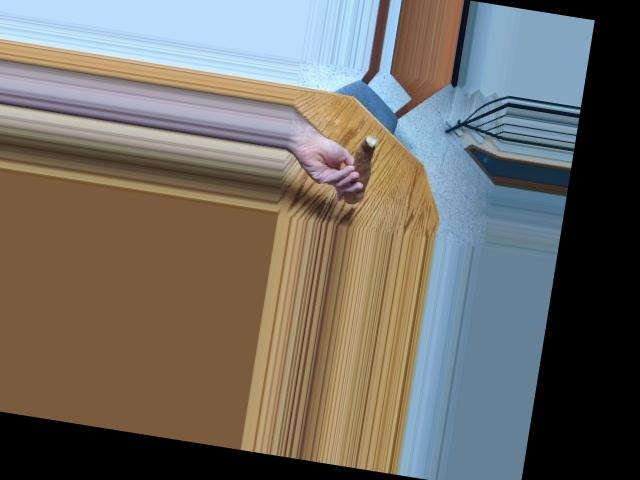sweet_potato: (344, 127, 378, 206)
